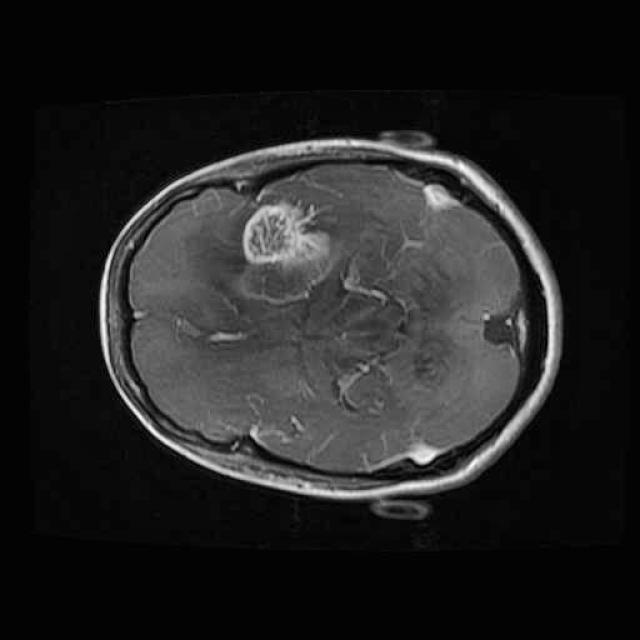Non-Tumor: (230, 192, 341, 308)
